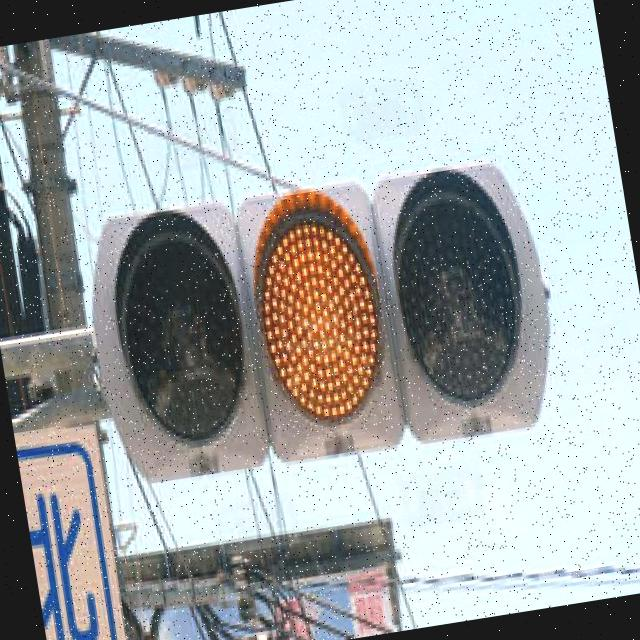yellow_light: (238, 163, 418, 450)
